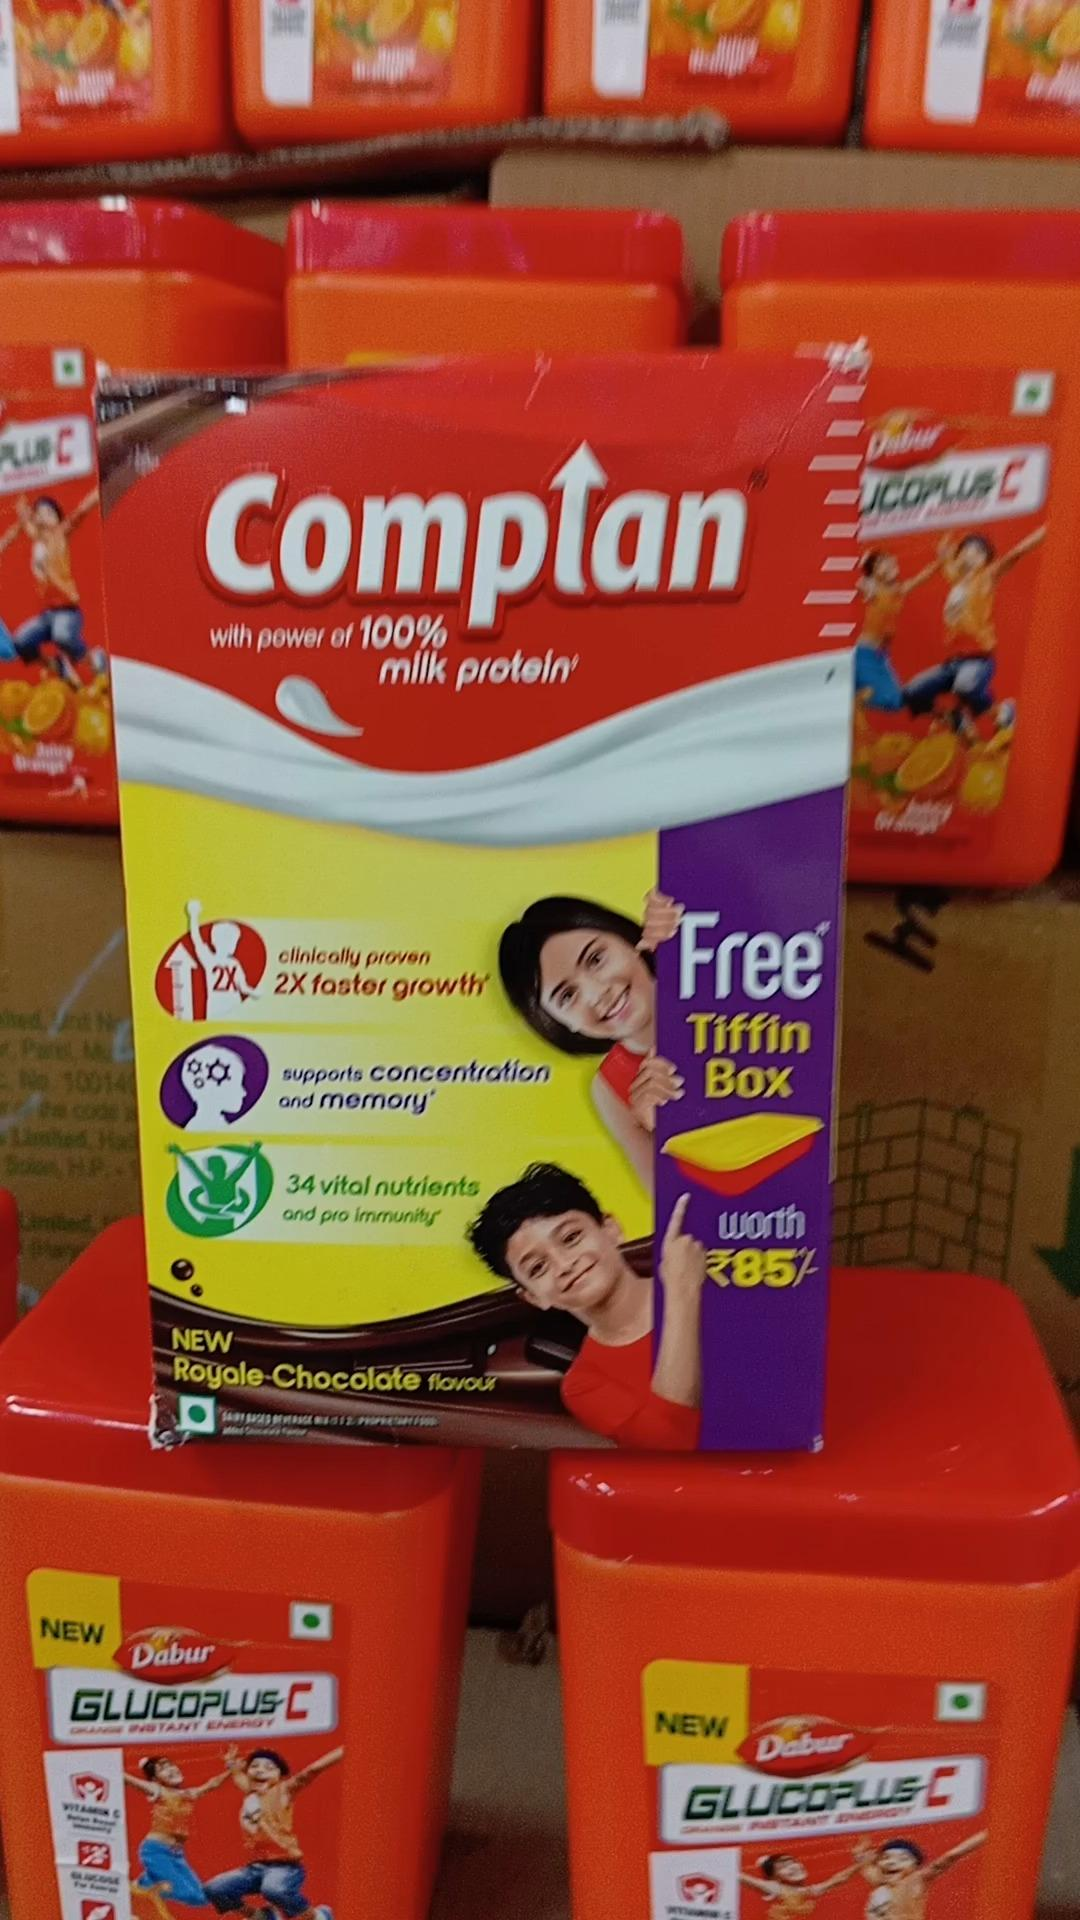COMPLAN_CHOCOLATE_500_GMS_PACK: (131, 380, 816, 1453)
